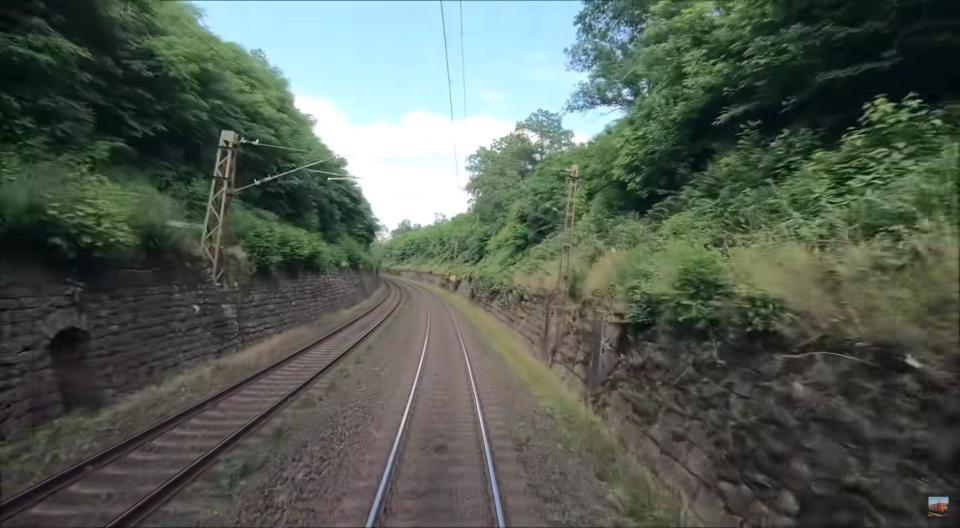Plant: (452, 298, 690, 528), (194, 297, 376, 385), (212, 408, 294, 490)
